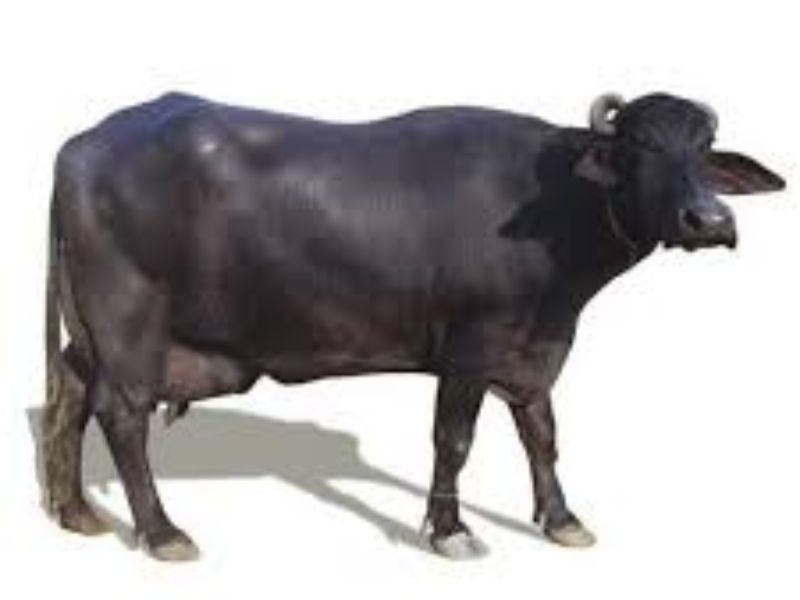buffalo: (26, 47, 799, 568)
